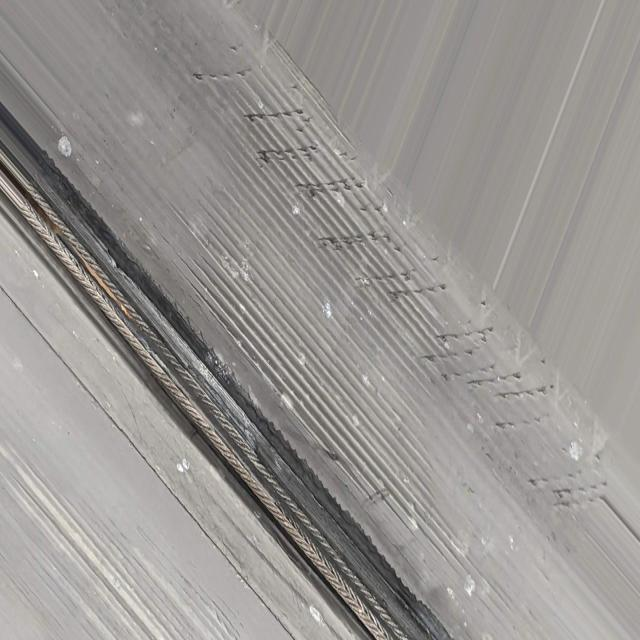Tear: (15, 157, 459, 640)
Wear: (172, 0, 611, 516)
